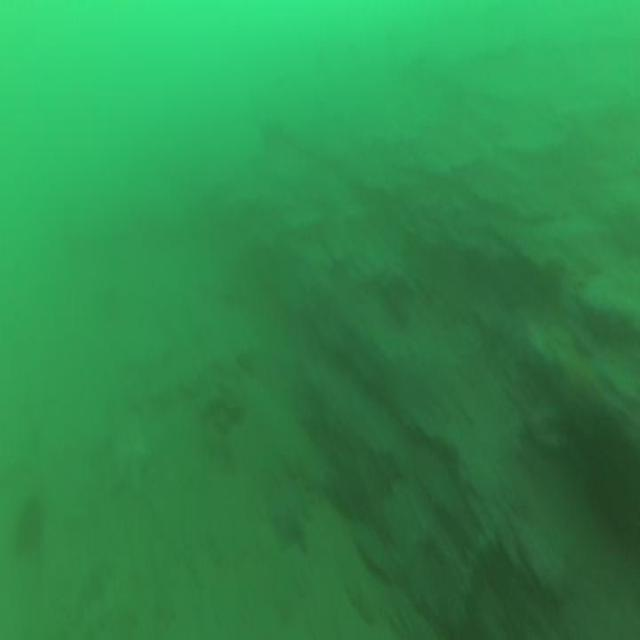starfish: (269, 482, 315, 558)
